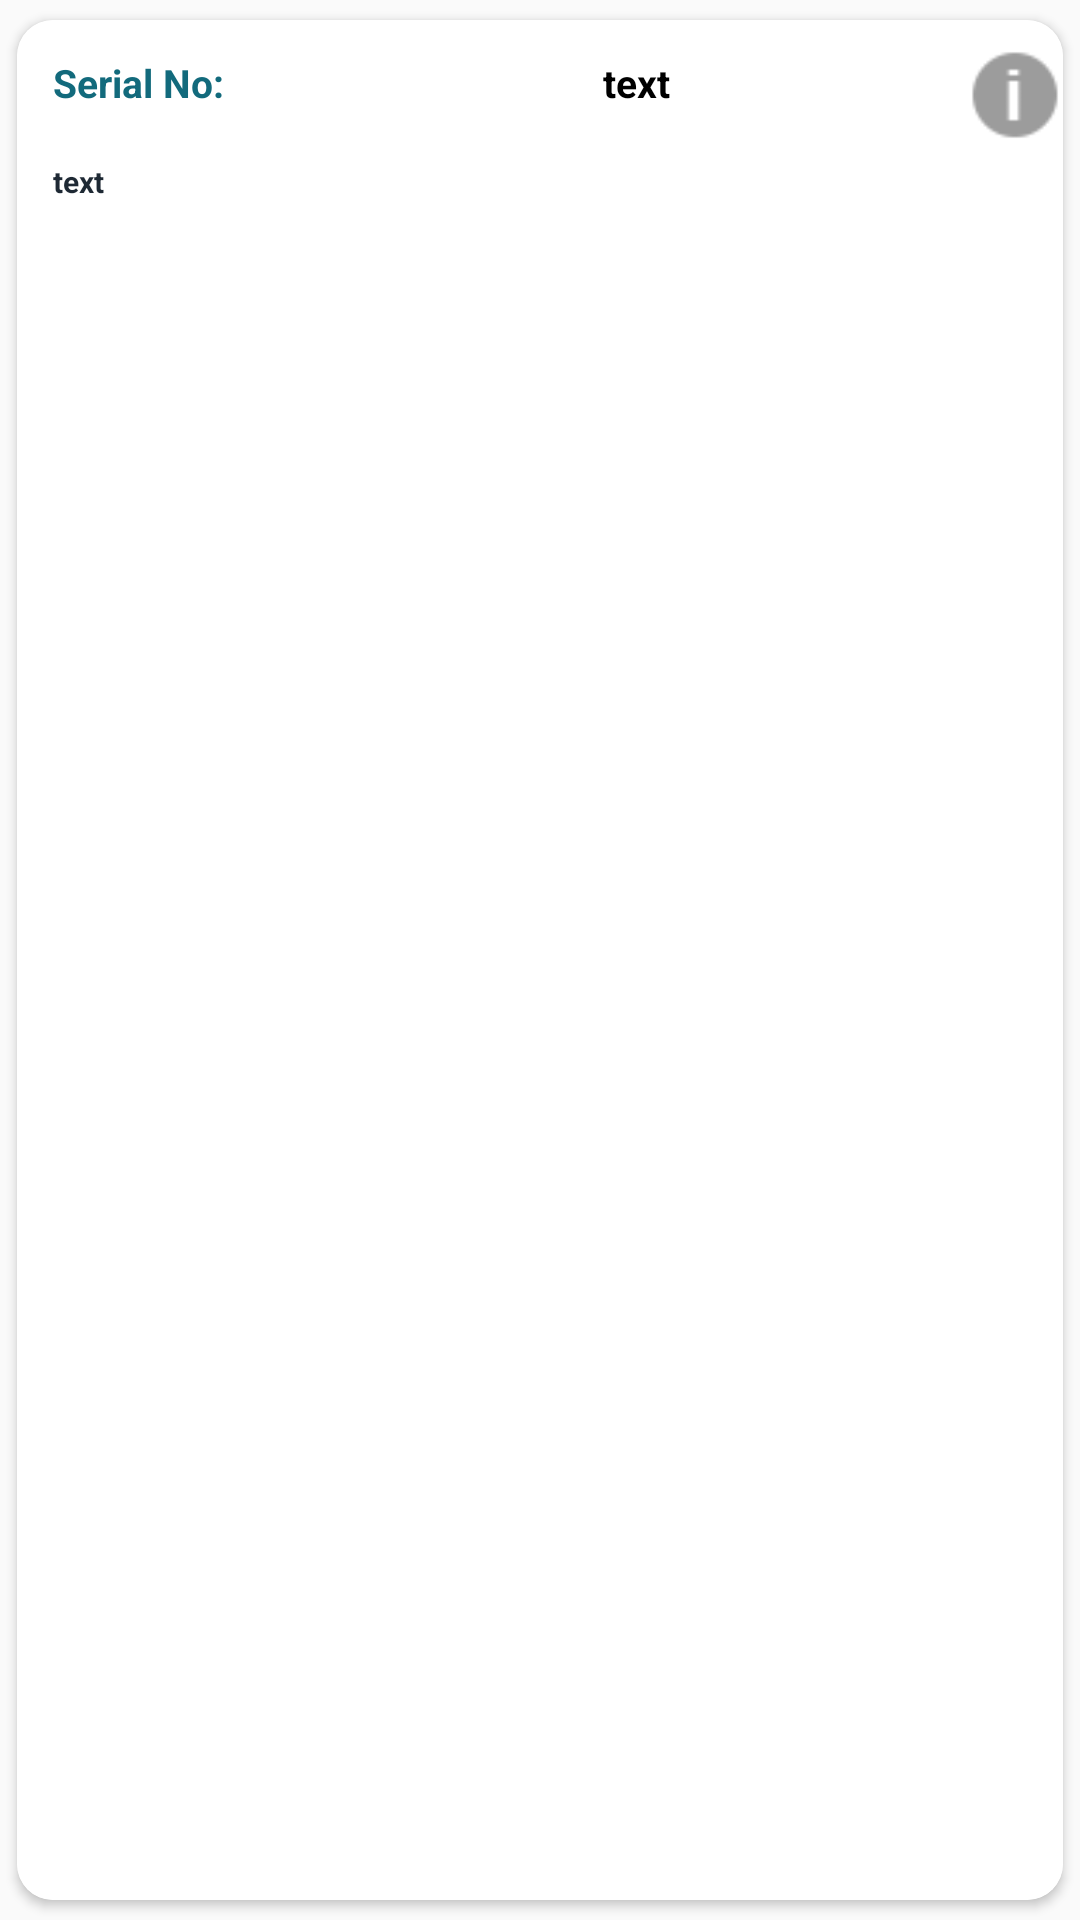

Where icons sit on this 1080px×1920px app screen, as bbox(x1, y1, x2, y2):
aboutus: bbox(972, 52, 1058, 138)
